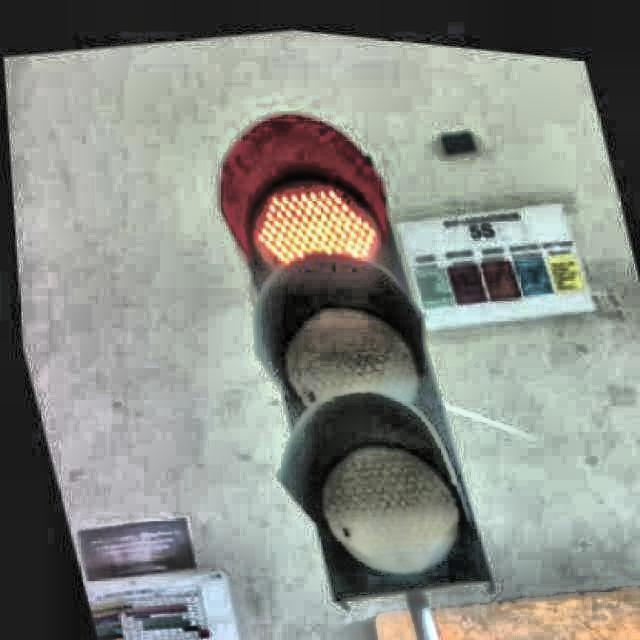red: (226, 124, 496, 591)
